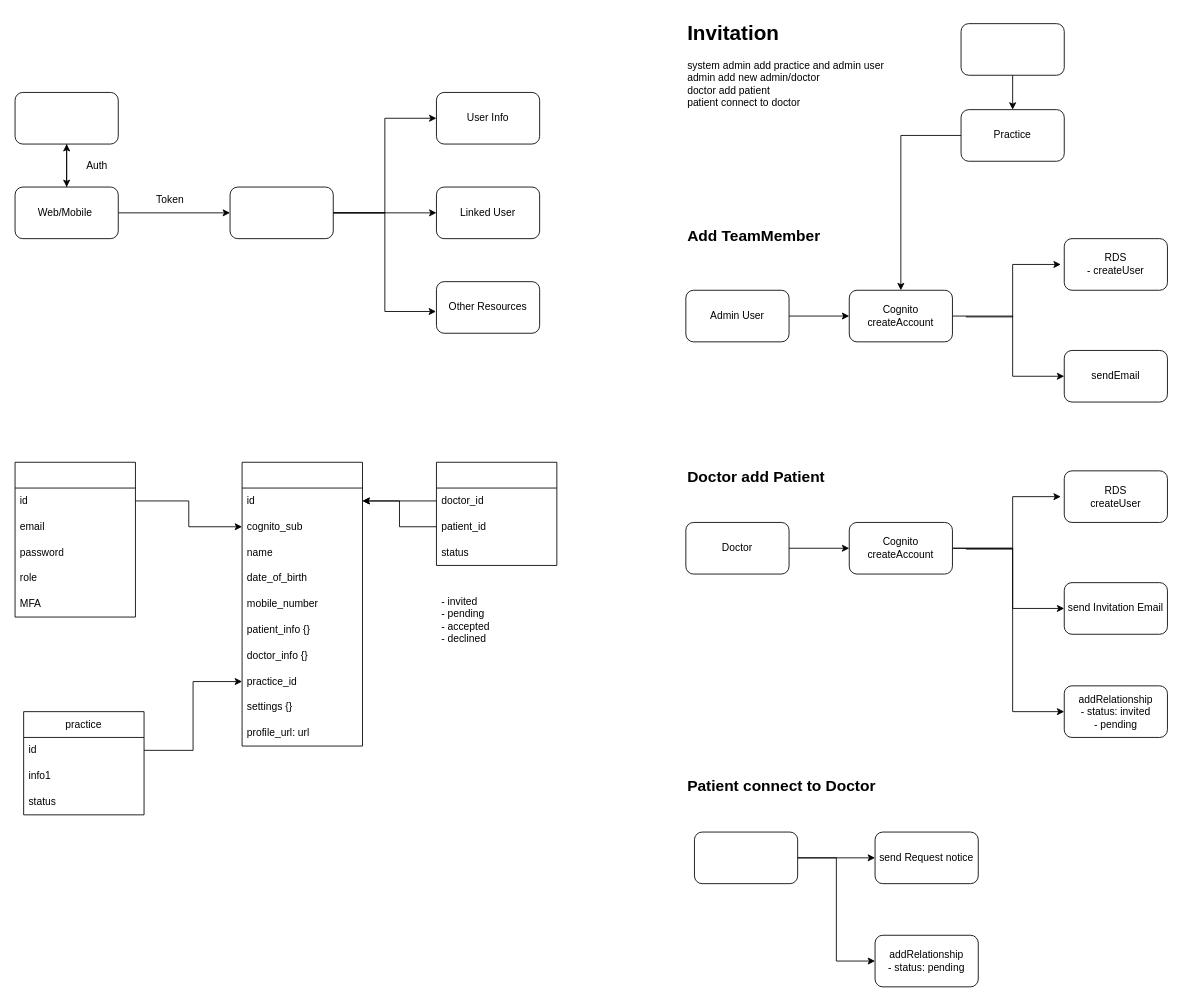
The diagram is 1183 pixels wide and 1002 high, and some of its shapes have lost their labels. The shapes that lost their labels are listed below. From the top down, each one's box as (x1, y1, x2, y2) in pixels, then its label:
(960, 23, 1064, 75): System Admin
(14, 92, 118, 144): Cognito create JWT token
(229, 186, 333, 239): API gateway
(436, 461, 557, 565): doctor_patient
(14, 461, 135, 617): Cognito
(241, 461, 362, 746): user_info
(694, 831, 798, 884): patient
